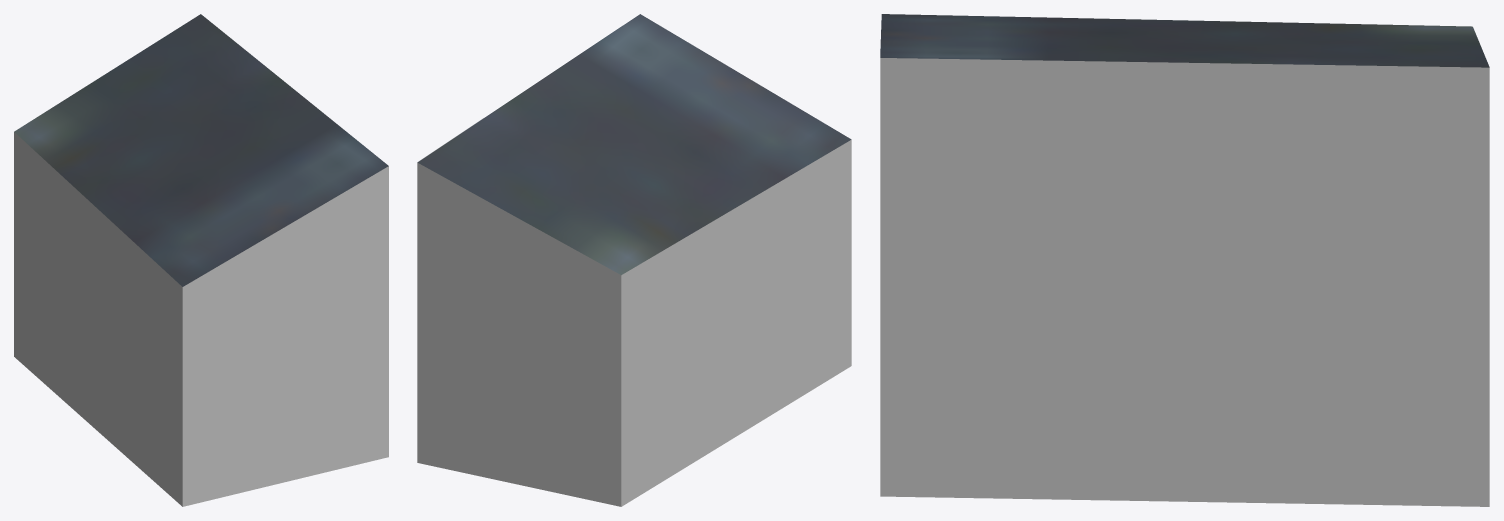
Rendered from DEBW_0010007Tvjh.gltf.
3 views of the same model, side by side, from view 1: azimuth 30°, elevation 25°; view 2: azimuth 150°, elevation 25°; view 3: azimuth 270°, elevation 25° (orthographic). The views are drawn at different scales.
Visible parts, largest first — view 1: Z_UP; view 2: Z_UP; view 3: Z_UP.
Part boxes in pixels (x1=…): Z_UP: x1=14, y1=14, x2=388, y2=506; Z_UP: x1=417, y1=14, x2=851, y2=506; Z_UP: x1=880, y1=14, x2=1489, y2=506.
Bounding box in the file's own units: 2.48 × 3.14 × 3.95.
Materials: 2 (1 with a texture image).
